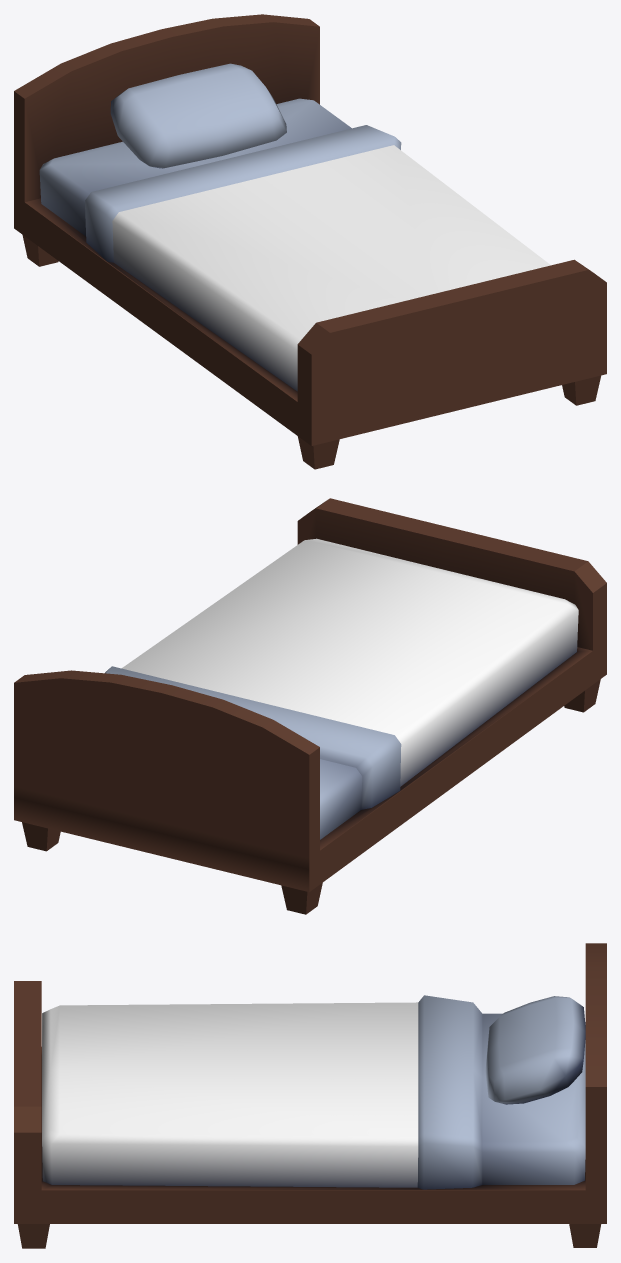
Rendered from Furniture_Bed.fbx.
The picture shows the model from 3 angles, top to bottom: view 1: azimuth 30°, elevation 25°; view 2: azimuth 150°, elevation 25°; view 3: azimuth 270°, elevation 25°; orthographic projection.
Visible parts, largest first — view 1: Bed; view 2: Bed; view 3: Bed.
Part boxes in pixels (x1,y1,x2,y2): Bed: (14,14,606,469); Bed: (14,498,606,914); Bed: (14,943,606,1248).
Size of the model in its own units: 300 by 186 by 523.
